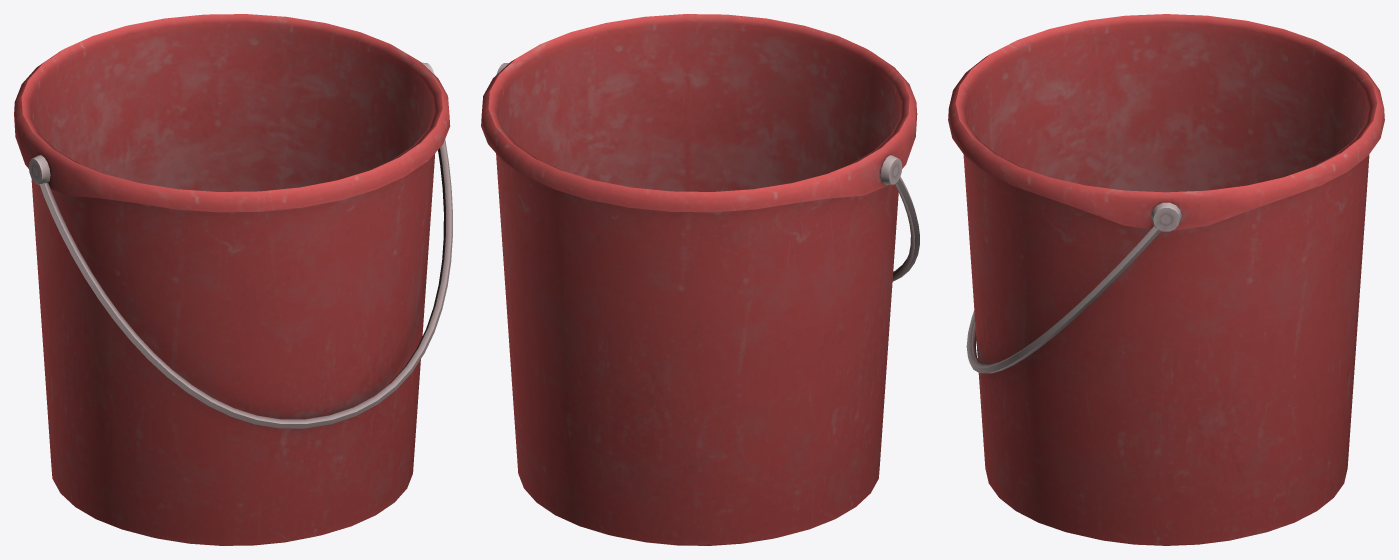
3 views of the same model, side by side, from view 1: azimuth 30°, elevation 25°; view 2: azimuth 150°, elevation 25°; view 3: azimuth 270°, elevation 25° (orthographic).
Parts seen in each view (by area): view 1: Plastic_Bucket; view 2: Plastic_Bucket; view 3: Plastic_Bucket.
Part boxes in pixels (x1,y1,x2,y2): Plastic_Bucket: [14, 14, 452, 545]; Plastic_Bucket: [481, 14, 919, 545]; Plastic_Bucket: [948, 14, 1384, 545].
Bounding box in the file's own units: 0.4719 × 0.4283 × 0.4543.
1 material, 1 textured.
